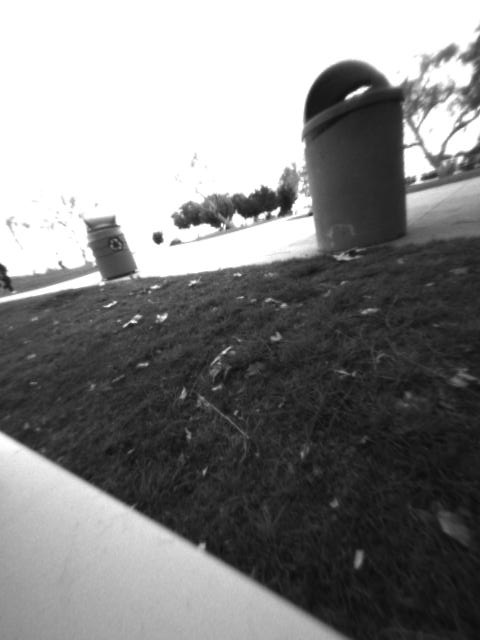trashcan: (304, 60, 410, 252)
